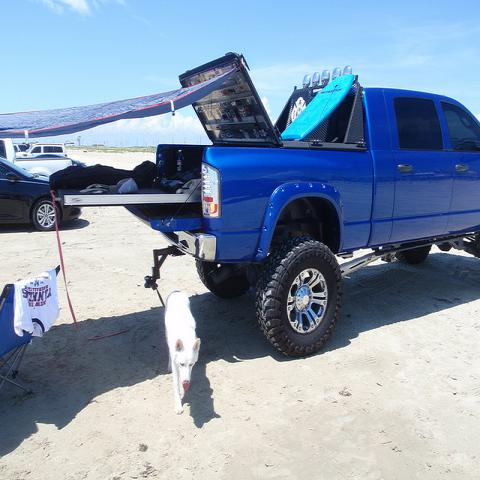car: (0, 155, 84, 231), (1, 137, 74, 175), (15, 142, 67, 158), (13, 144, 29, 152)
truck: (56, 57, 479, 359)
